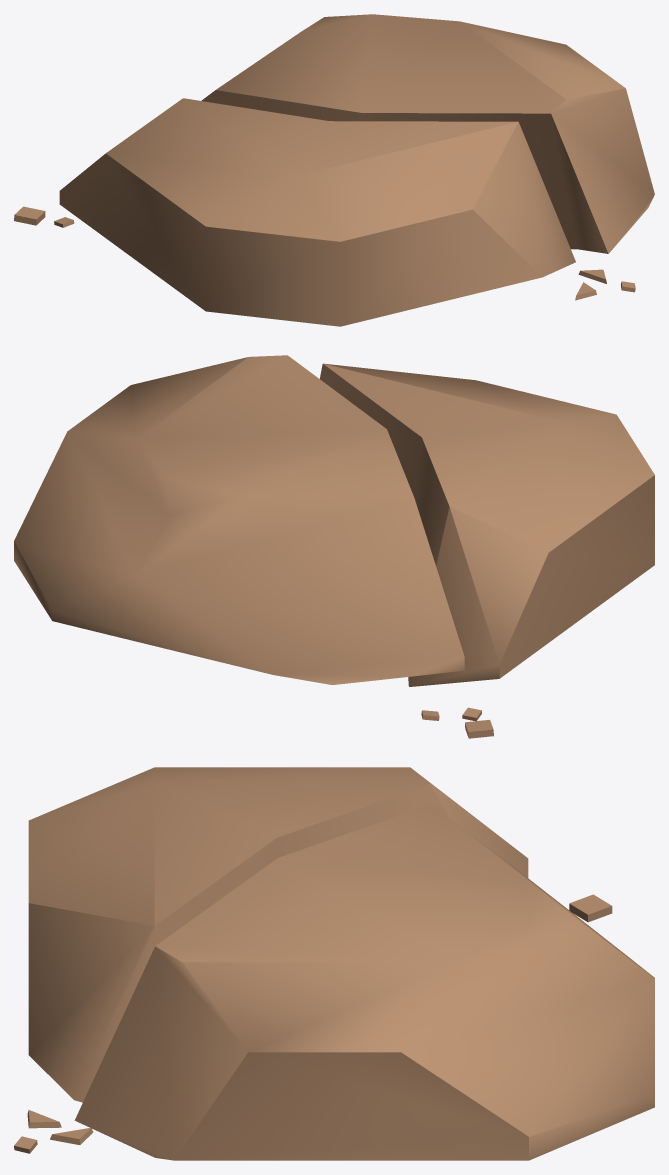
Rendered from rock-flat-crk-m-02.glb.
The picture shows the model from 3 angles, top to bottom: view 1: azimuth 30°, elevation 25°; view 2: azimuth 150°, elevation 25°; view 3: azimuth 270°, elevation 25°; orthographic projection. The views are drawn at different scales.
Parts seen in each view (by area): view 1: Rock_Flat_crk_m_02; view 2: Rock_Flat_crk_m_02; view 3: Rock_Flat_crk_m_02.
Part boxes in pixels (x1,y1,x2,y2): Rock_Flat_crk_m_02: [14, 14, 654, 326]; Rock_Flat_crk_m_02: [14, 355, 654, 738]; Rock_Flat_crk_m_02: [14, 767, 654, 1160].
Bounding box in the file's own units: 1.35 × 0.3957 × 1.23.
1 material, 1 textured.
